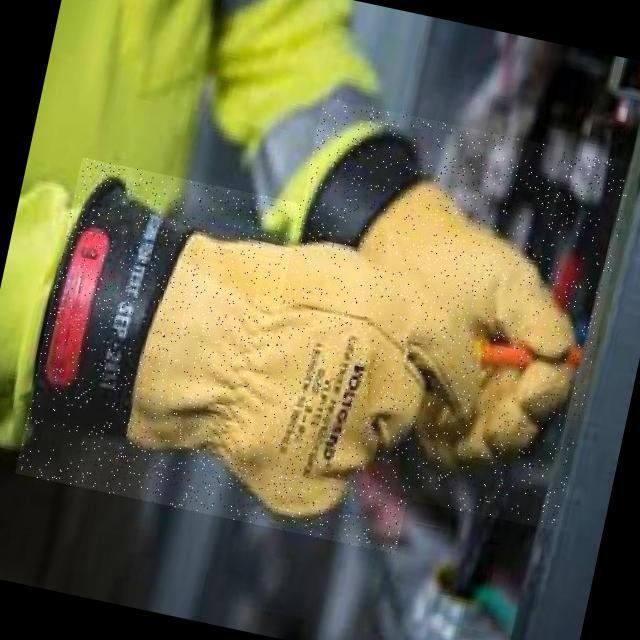Gloves: (15, 157, 463, 554), (246, 97, 634, 531)
